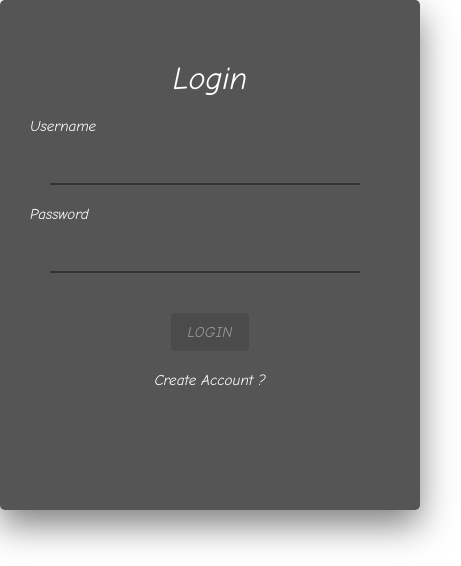
Test: ログイン画面 › 画面切り替えの確認 › 切り替えテキストクリック時、サインアップ画面に表示が切り替わり、再度クリックするとログイン画面に表示が戻ること
This screenshot has width=461, height=566.
Click the text with test id "switch-text" at (210, 380), box [154, 371, 266, 389]
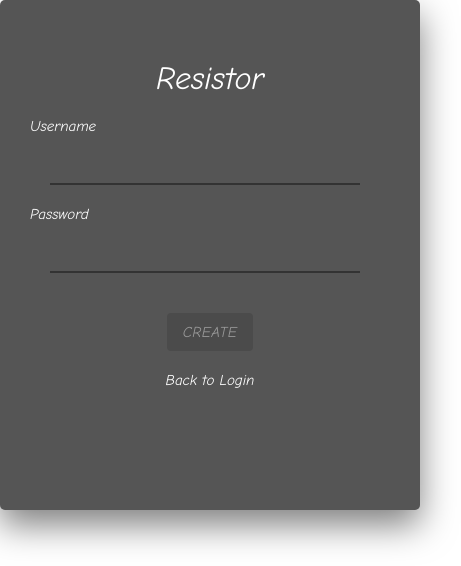
Expected: the heading with test id "header-title" reads "Resistor", [156, 60, 264, 97]
Expected: the button with test id "login-signup-btn" reads "Create", [167, 313, 253, 351]
Expected: the text with test id "switch-text" reads "Back to Login"
Click the text with test id "switch-text" at (210, 380), box [166, 371, 254, 389]
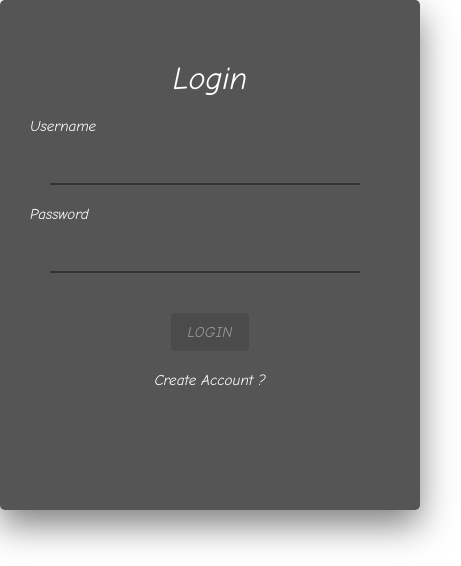
Expected: the heading with test id "header-title" reads "Login", [173, 60, 247, 97]
Expected: the button with test id "login-signup-btn" reads "Login", [171, 313, 248, 351]
Expected: the text with test id "switch-text" reads "Create Account ?", [154, 371, 266, 389]
